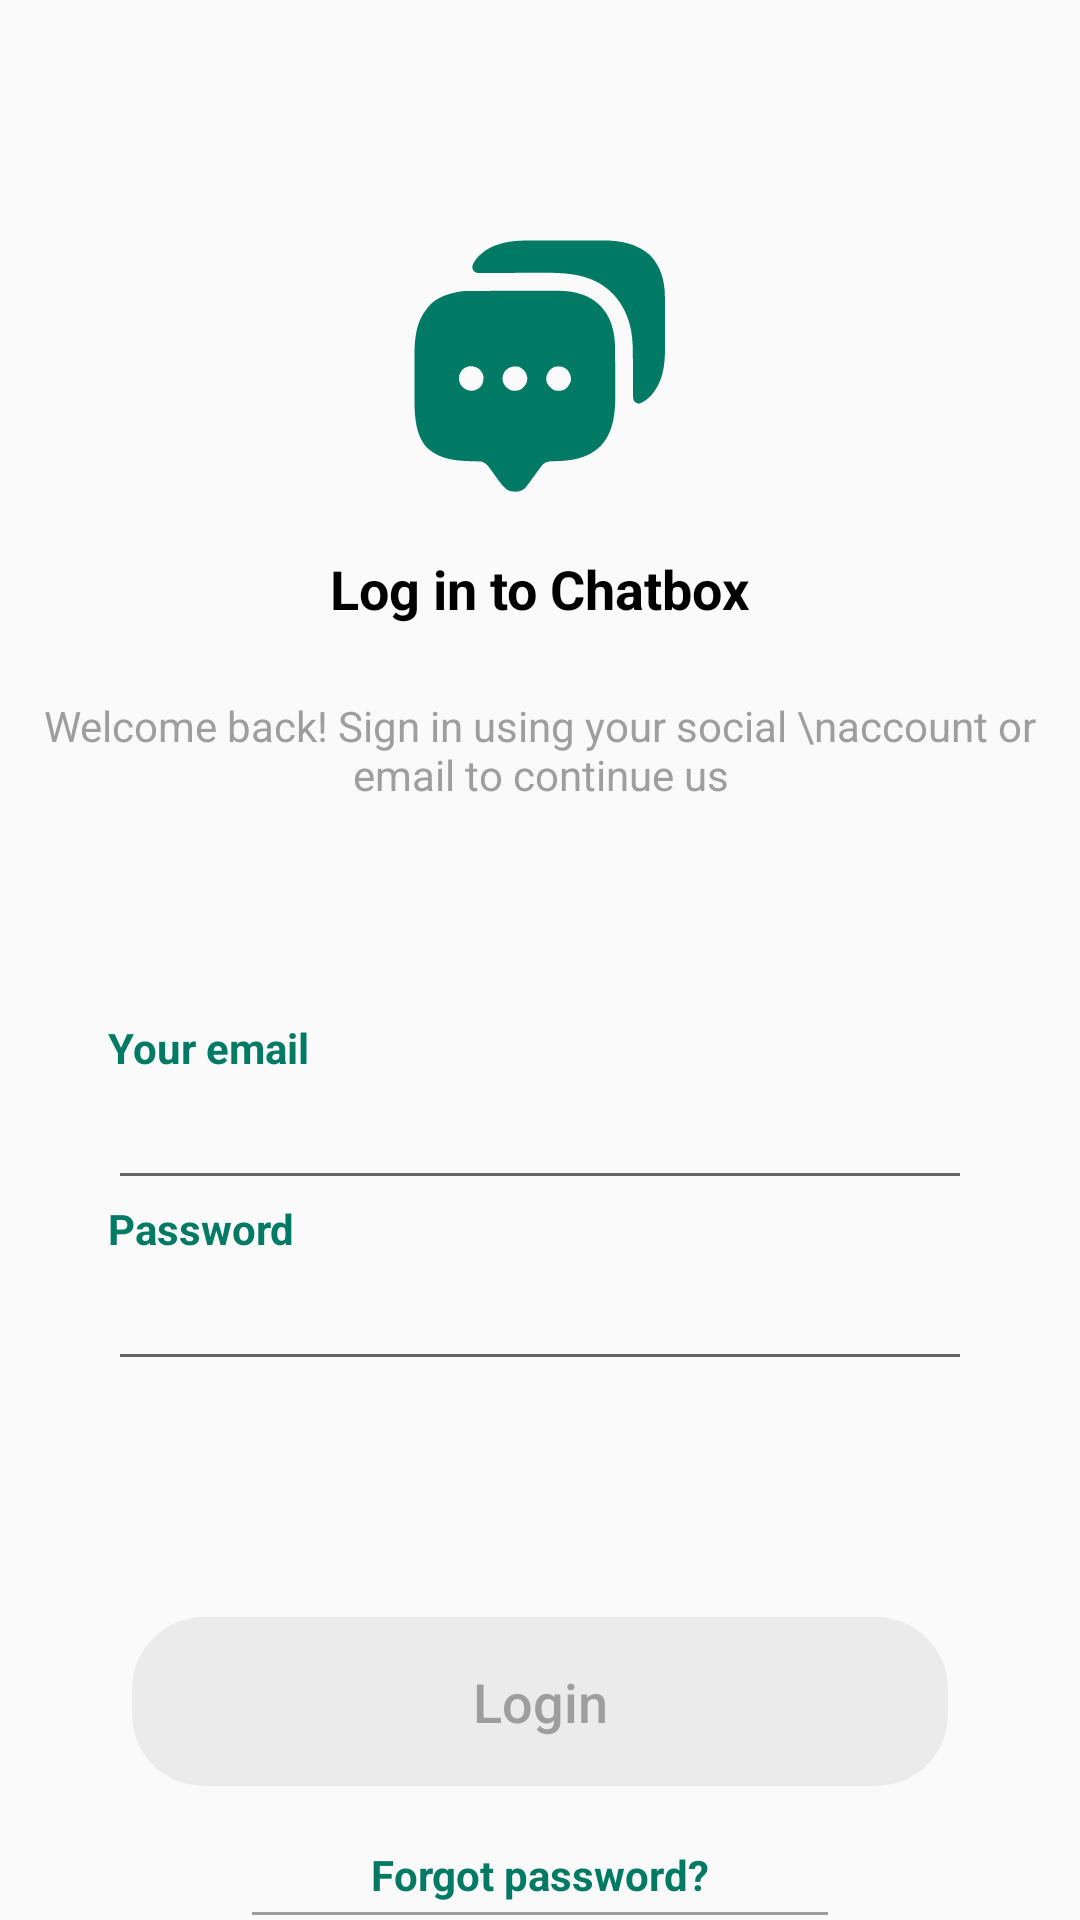

Icons on this 1080px x 1920px Android screen, each with the point to tap as [x,y]:
message: [539,366]
